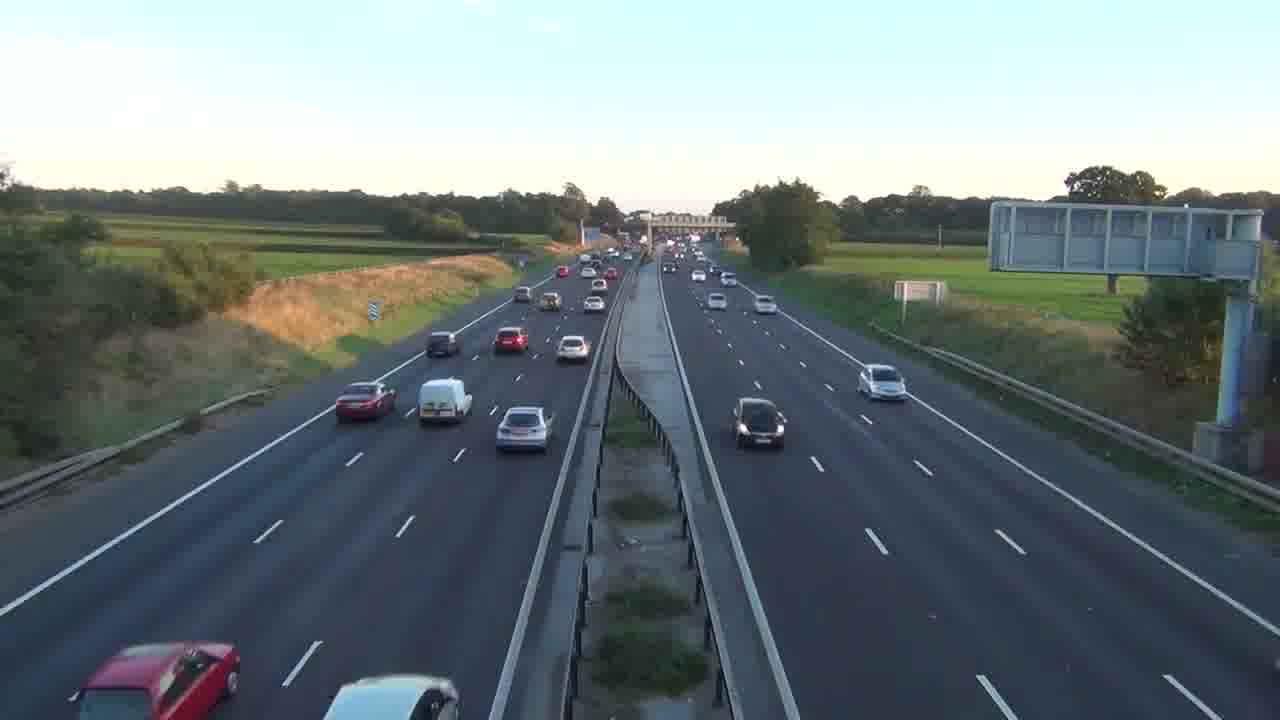car: (66, 640, 240, 719), (733, 396, 788, 449), (496, 404, 554, 453), (335, 381, 397, 422), (857, 363, 907, 402), (556, 334, 591, 364), (426, 331, 461, 359)
truck: (417, 377, 472, 425)
